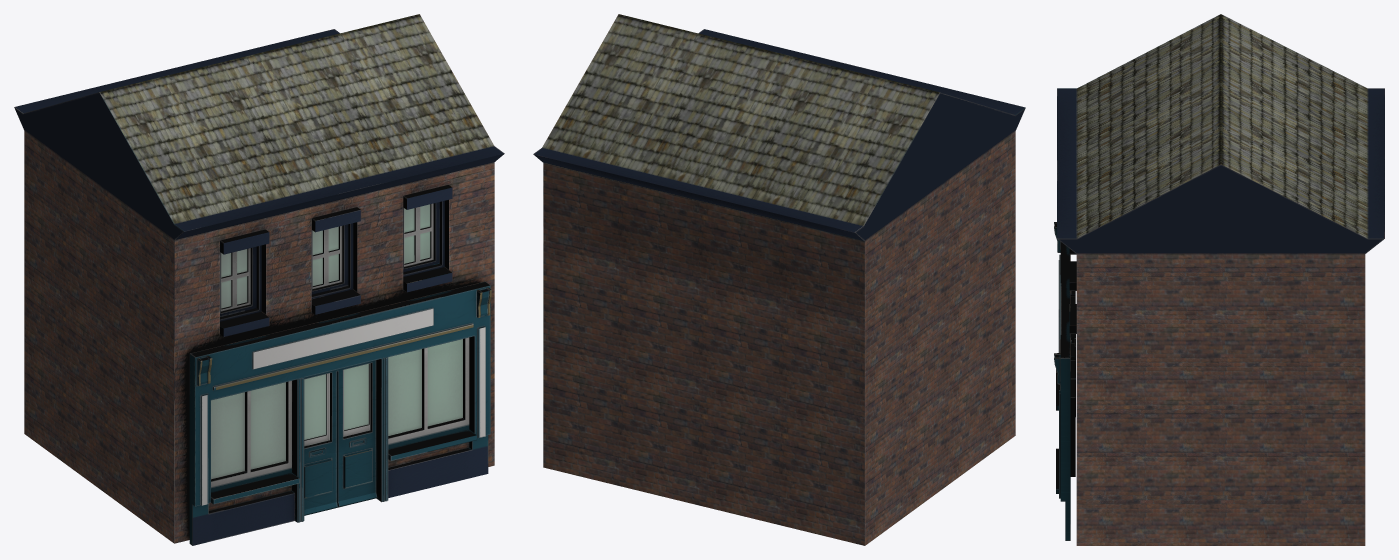
3 renders of one model, left to right at view 1: azimuth 30°, elevation 25°; view 2: azimuth 150°, elevation 25°; view 3: azimuth 270°, elevation 25°, orthographic. The views are drawn at different scales.
Visible parts, largest first — view 1: Cube.001; view 2: Cube.001; view 3: Cube.001.
Part boxes in pixels (box(x1,y1,x2,y2)): Cube.001: box(14, 14, 504, 545); Cube.001: box(533, 14, 1025, 545); Cube.001: box(1054, 14, 1384, 545).
Size of the model in its own units: 535 by 634 by 497.
Materials: 1 (1 with a texture image).
